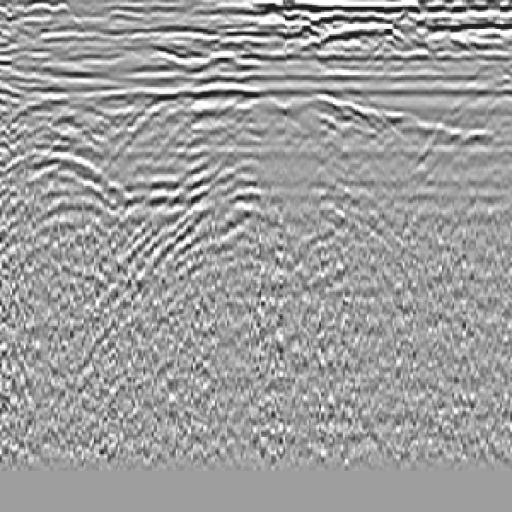metalic: (99, 34, 307, 282)
